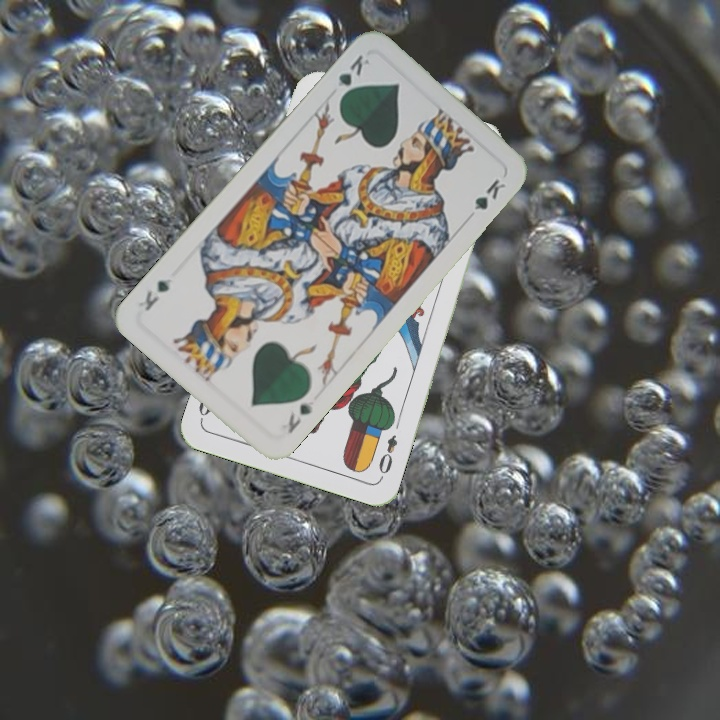EO: (374, 430, 400, 482)
GK: (333, 50, 372, 103), (283, 399, 315, 436)
